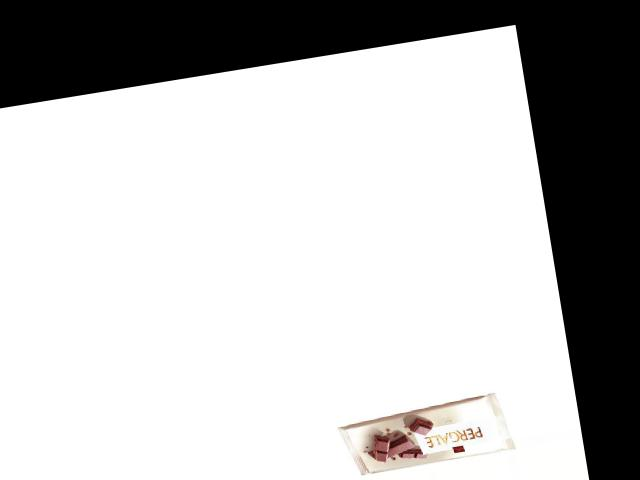chocolate: (333, 392, 518, 478)
